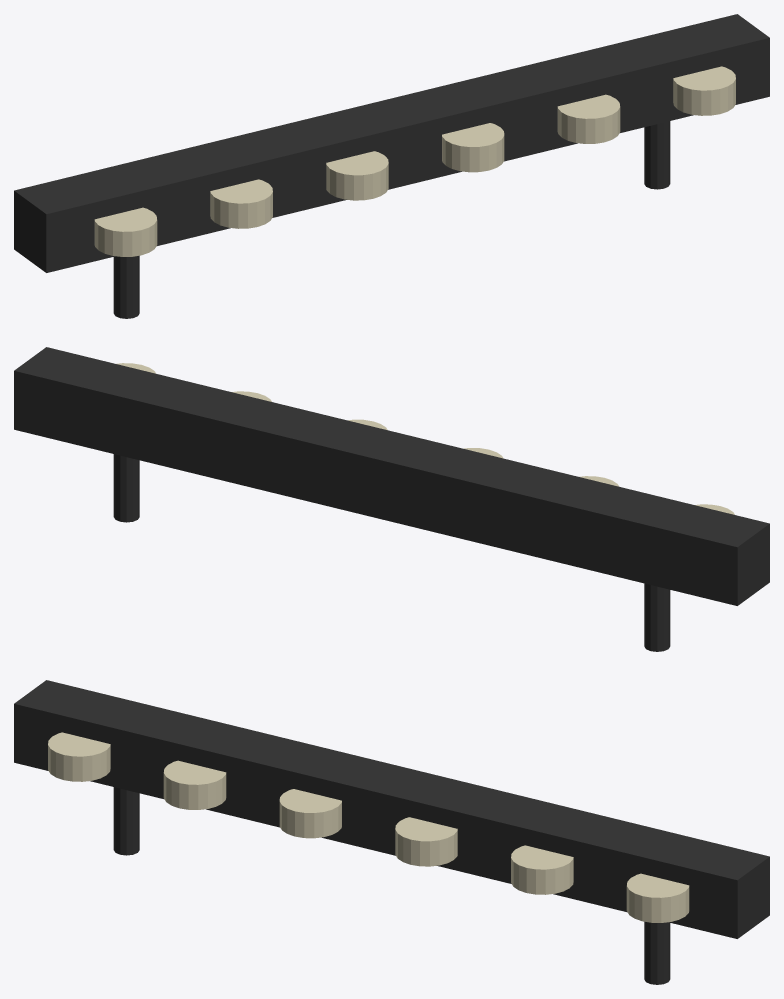
Rendered from ACC_LightBar.glb.
3 renders of one model, top to bottom at view 1: azimuth 30°, elevation 25°; view 2: azimuth 150°, elevation 25°; view 3: azimuth 330°, elevation 25°, orthographic.
Visible parts, largest first — view 1: ACC_LightBar; view 2: ACC_LightBar; view 3: ACC_LightBar.
Part boxes in pixels (box(x1,y1,x2,y2)): ACC_LightBar: box(14, 14, 769, 318); ACC_LightBar: box(14, 347, 769, 651); ACC_LightBar: box(14, 680, 769, 984).
Bounding box in the file's own units: 0.9 × 0.16 × 0.119.
